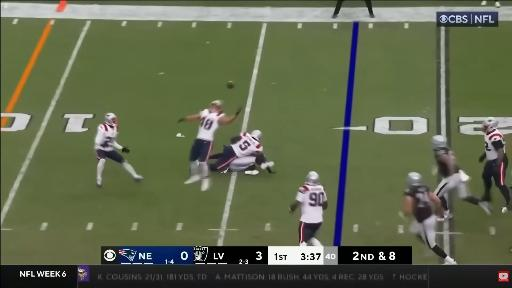Helmet: (483, 118, 498, 132), (407, 172, 422, 185), (431, 135, 446, 147), (209, 100, 222, 112), (105, 113, 117, 125), (307, 172, 319, 183), (250, 130, 261, 140)
Jersey: (296, 183, 326, 223), (404, 185, 433, 223), (197, 109, 224, 141), (231, 133, 262, 157), (434, 147, 455, 178), (95, 124, 118, 151), (485, 130, 505, 160)
Player: (178, 101, 242, 190), (431, 135, 490, 221), (403, 173, 456, 264), (95, 113, 142, 187), (479, 118, 510, 213), (289, 172, 327, 246), (210, 131, 274, 171), (221, 156, 266, 175)
